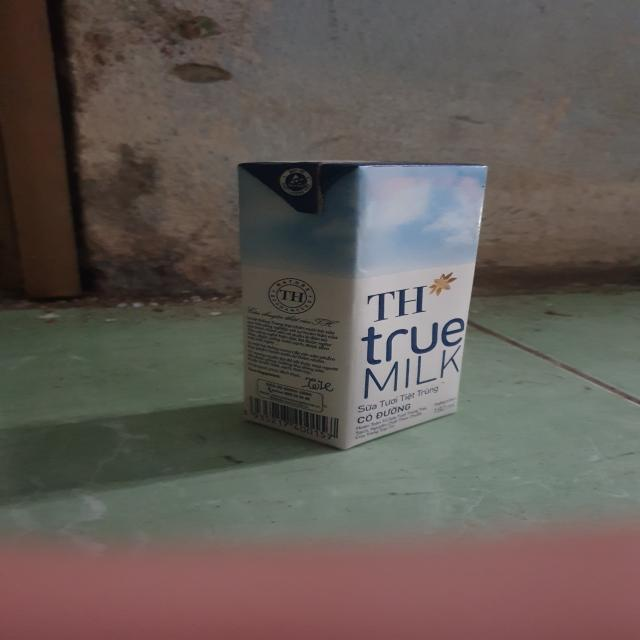TH: (231, 157, 499, 454)
